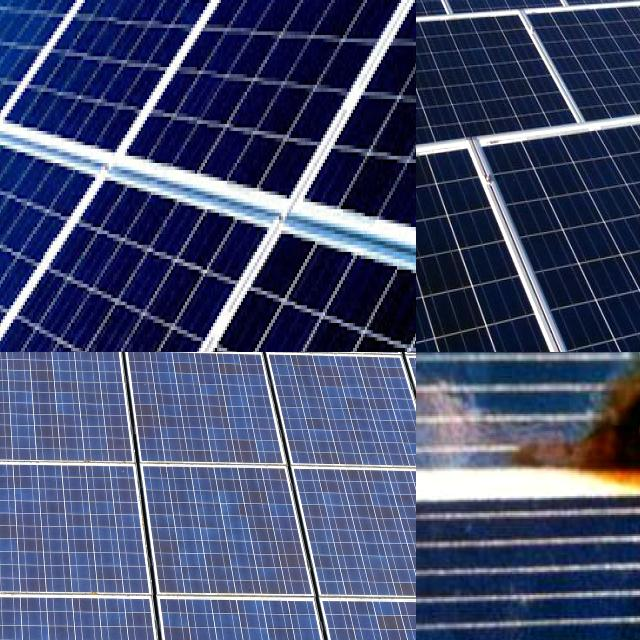crack: (40, 0, 416, 321), (0, 90, 244, 352), (416, 134, 640, 352), (0, 201, 273, 352), (89, 231, 416, 352), (306, 0, 416, 352), (475, 137, 640, 352), (122, 461, 342, 607), (416, 6, 593, 162), (108, 352, 303, 485), (0, 460, 159, 592), (0, 352, 154, 478), (511, 0, 640, 146), (261, 353, 416, 469), (416, 23, 497, 178), (0, 457, 70, 611), (0, 588, 194, 640), (149, 594, 352, 640)
shadow: (496, 352, 640, 640)
